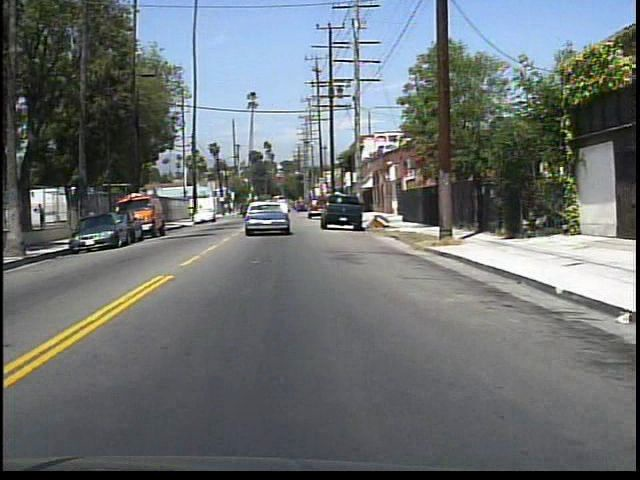person: (36, 202, 49, 230)
